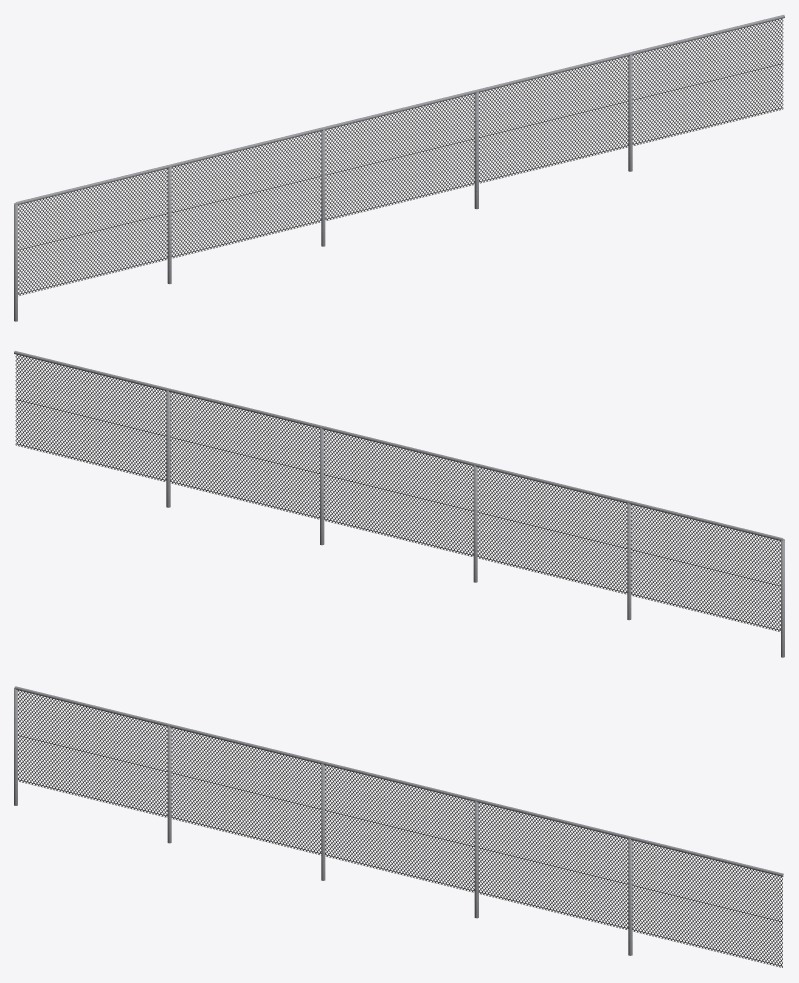
Rendered from fence-tall-chainlink-1rail-5s-cbj_LOD01.gltf.
3 views of the same model, one above another, from view 1: azimuth 30°, elevation 25°; view 2: azimuth 150°, elevation 25°; view 3: azimuth 330°, elevation 25° (orthographic).
Visible parts, largest first — view 1: cube01; view 2: cube01; view 3: cube01.
Boxes of the visible parts, x1,y1,x2,y2 form: cube01: (14, 15, 784, 321); cube01: (14, 351, 784, 657); cube01: (14, 686, 783, 967).
Size of the model in its own units: 15.54 by 2.3 by 0.0727.
